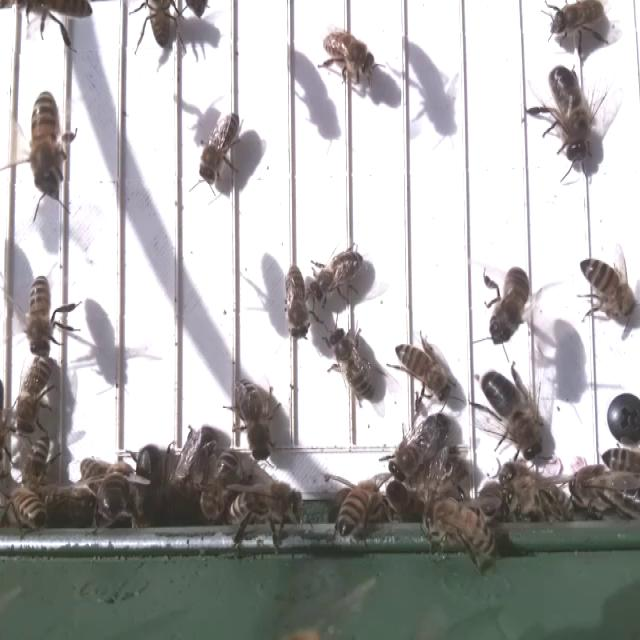Drone: (477, 366, 547, 466), (546, 62, 594, 174)
Worker: (386, 413, 454, 487), (577, 252, 640, 324), (10, 351, 58, 438), (30, 87, 64, 207), (308, 246, 370, 310), (390, 339, 453, 401), (318, 26, 384, 84), (194, 113, 242, 190), (486, 264, 529, 349), (235, 378, 278, 462), (328, 331, 376, 404), (544, 0, 608, 44), (25, 270, 54, 366), (282, 265, 309, 343)
